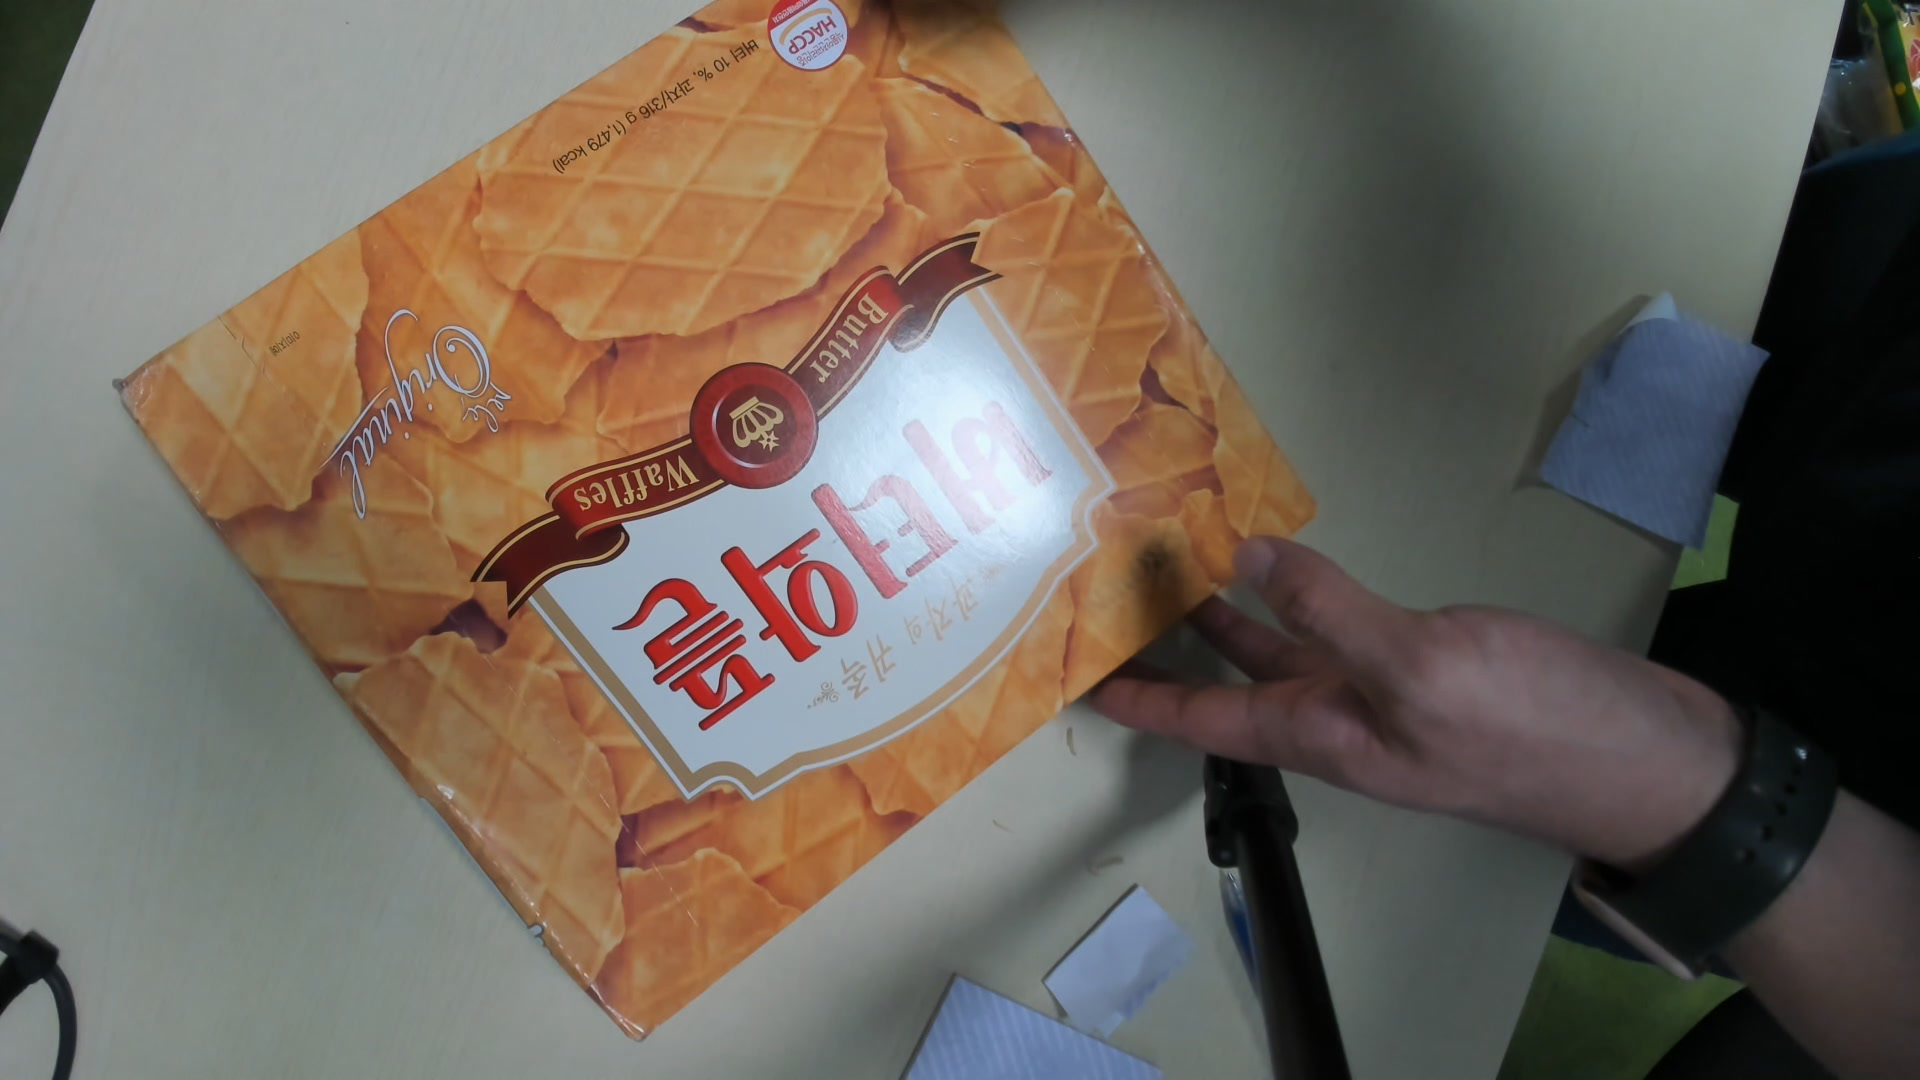BiscuitsCrackersCookies_300-399g_NonHalal_NonHealthy: (113, 1, 1305, 1027)
